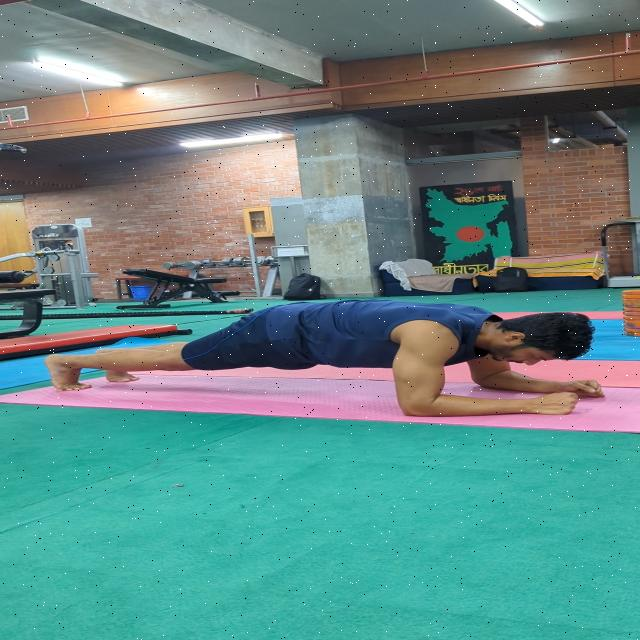Normal_Plunk: (44, 292, 632, 421)
